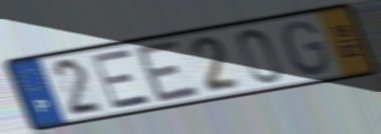0: (236, 26, 285, 86)
2: (52, 56, 107, 119), (189, 34, 244, 95)
E: (131, 37, 205, 106), (89, 46, 156, 112)
G: (281, 19, 333, 77)
